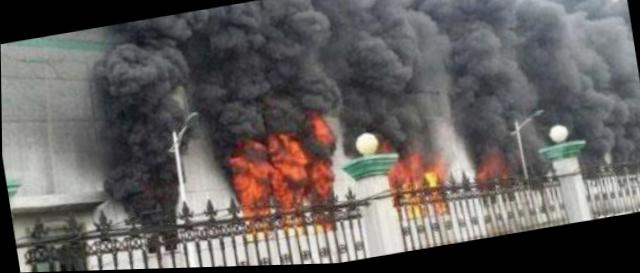fire: (228, 130, 306, 212), (383, 153, 443, 190), (303, 153, 333, 205), (304, 110, 327, 149)
